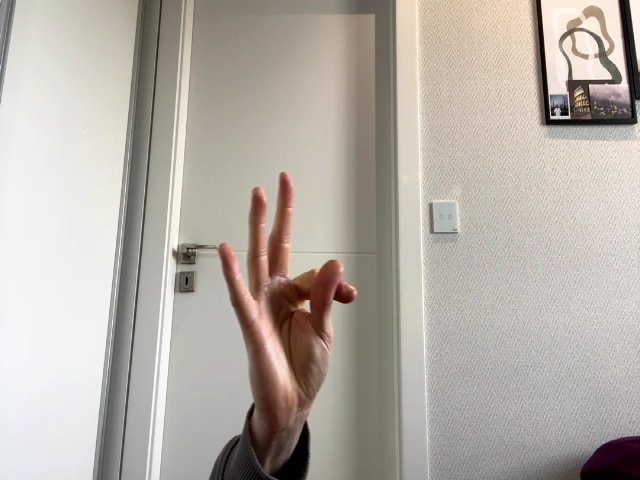T: (218, 172, 357, 405)
